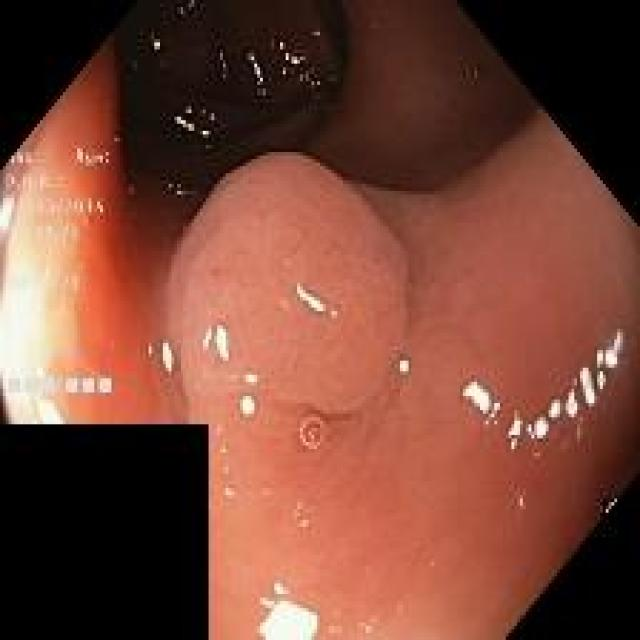Polyps: (169, 155, 408, 416)
